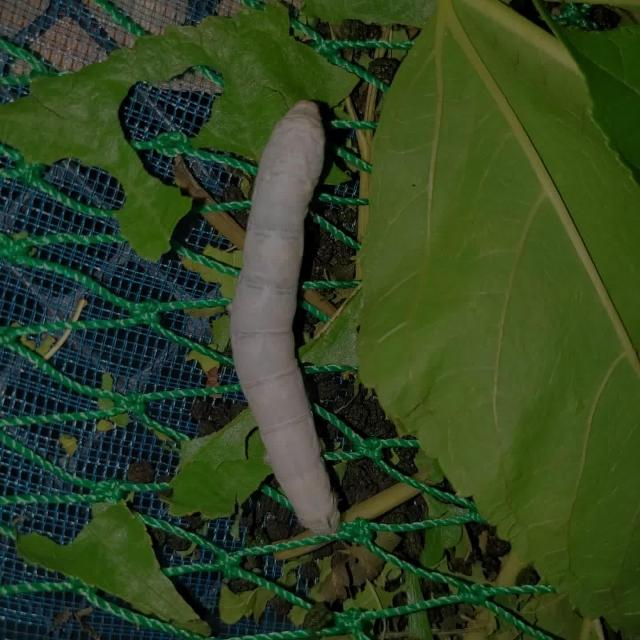Healthy: (227, 92, 371, 542)
